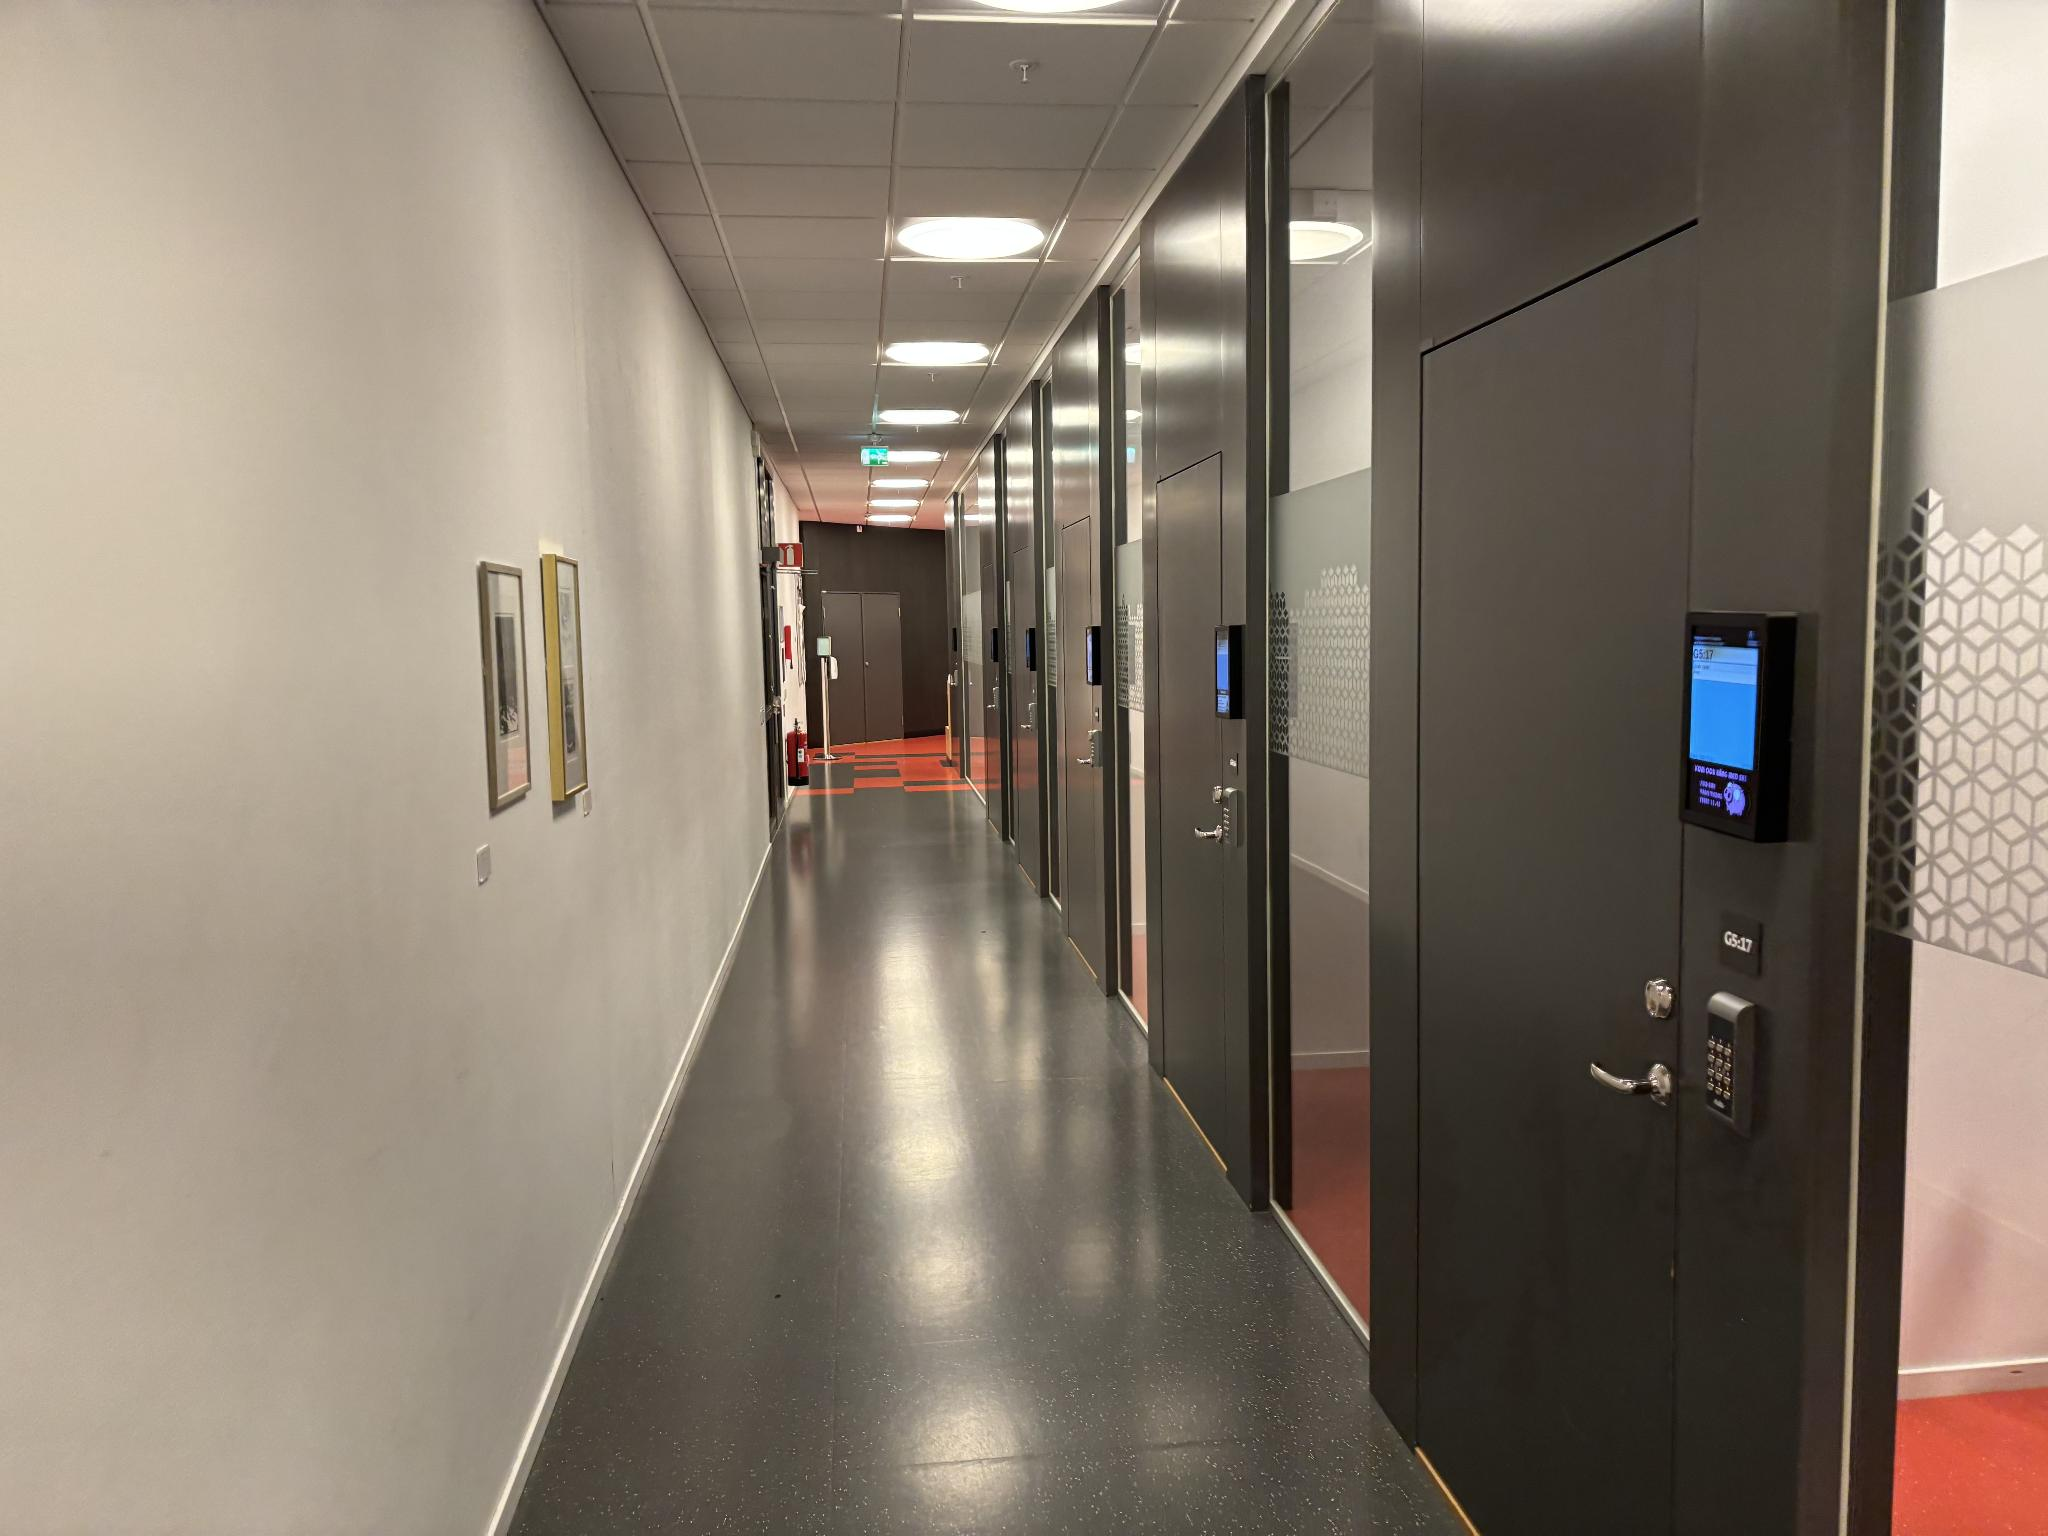exit_sign: (860, 450, 890, 466)
